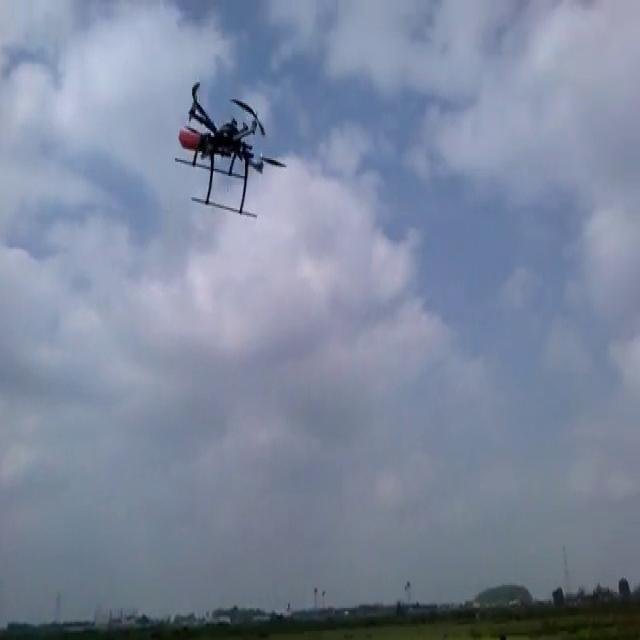drone: (172, 76, 288, 218)
